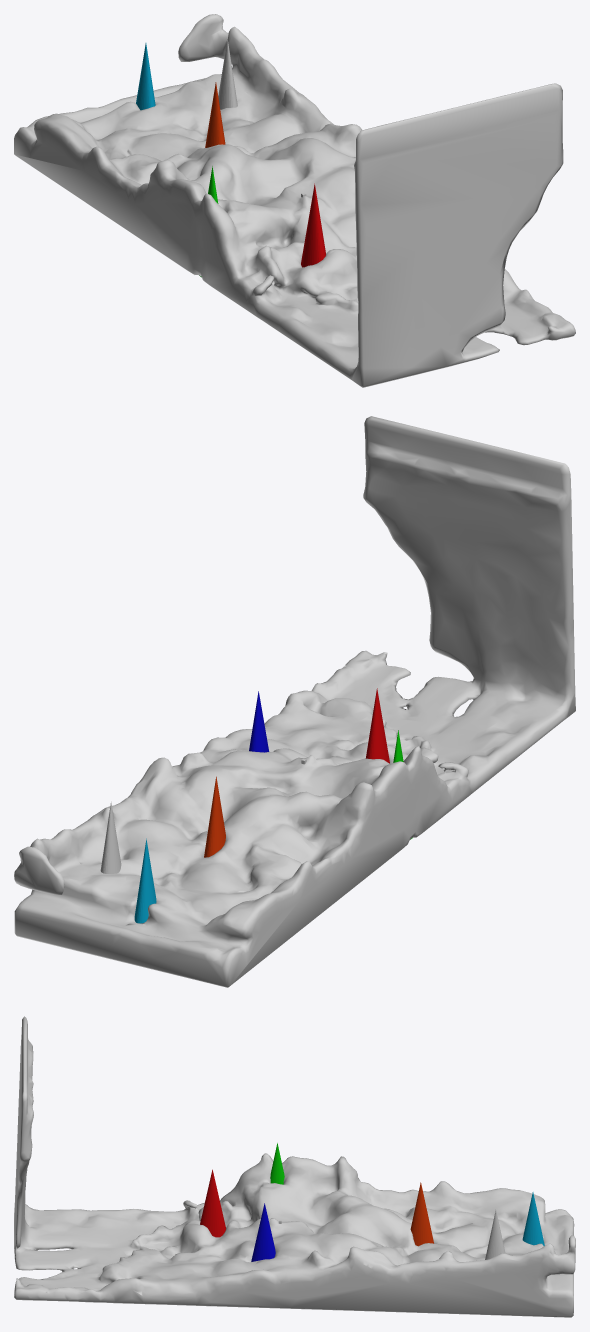
3 views of the same model, one above another, from view 1: azimuth 30°, elevation 25°; view 2: azimuth 150°, elevation 25°; view 3: azimuth 270°, elevation 25° (orthographic). The views are drawn at different scales.
Parts seen in each view (by area): view 1: Liquid_Domain, 円錐.001, 円錐, 円錐.005, 円錐.004; view 2: Liquid_Domain, 円錐.005, 円錐.004, 円錐.001, 円錐; view 3: Liquid_Domain, 円錐.001, 円錐.004, 円錐.002, 円錐.005, 円錐.
Boxes of the visible parts, x1,y1,x2,y2 form: Liquid_Domain: (14, 14, 575, 387); 円錐.001: (301, 183, 325, 267); 円錐: (218, 39, 237, 109); 円錐.005: (136, 43, 155, 110); 円錐.004: (205, 82, 225, 147); Liquid_Domain: (14, 416, 575, 987); 円錐.005: (134, 838, 156, 923); 円錐.004: (204, 776, 225, 857); 円錐.001: (365, 688, 389, 763); 円錐: (100, 801, 121, 873); Liquid_Domain: (14, 1016, 575, 1317); 円錐.001: (200, 1169, 225, 1237); 円錐.004: (410, 1182, 433, 1246); 円錐.002: (251, 1203, 275, 1261); 円錐.005: (522, 1192, 544, 1245); 円錐: (485, 1210, 505, 1259).
Bounding box in the file's own units: 129 × 158 × 362.
